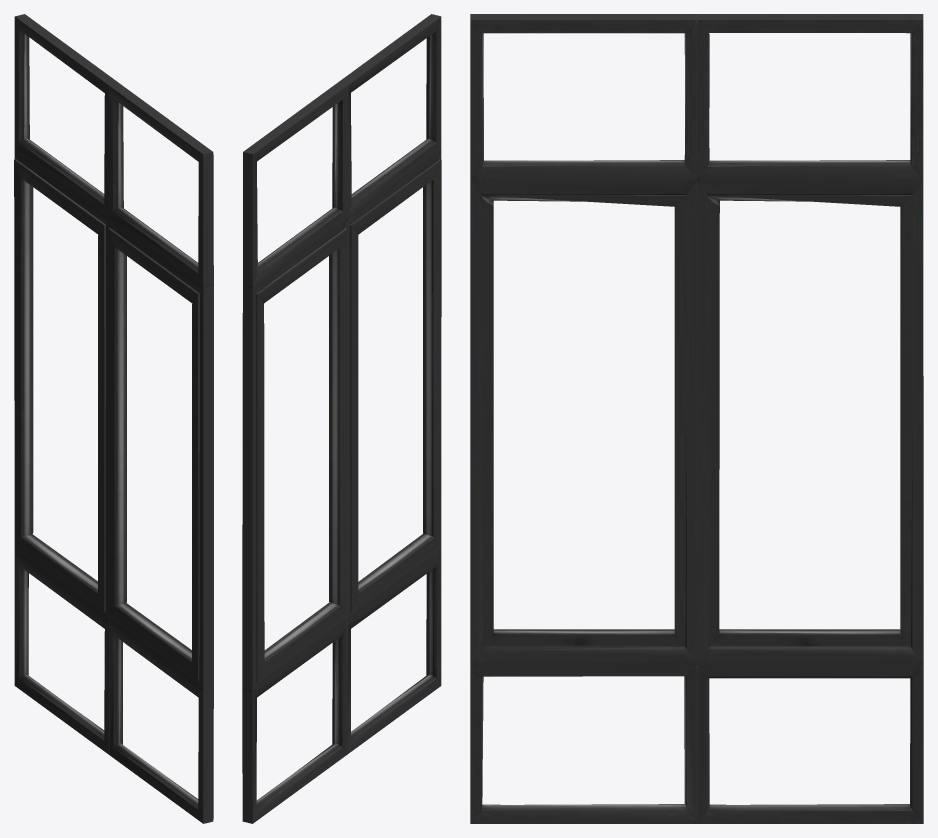
Rendered from Window2_0002.obj.
3 renders of one model, left to right at view 1: azimuth 30°, elevation 25°; view 2: azimuth 150°, elevation 25°; view 3: azimuth 270°, elevation 25°, orthographic. The views are drawn at different scales.
Size of the model in its own units: 0.033 by 1.59 by 0.814.
1 material, 1 textured.
